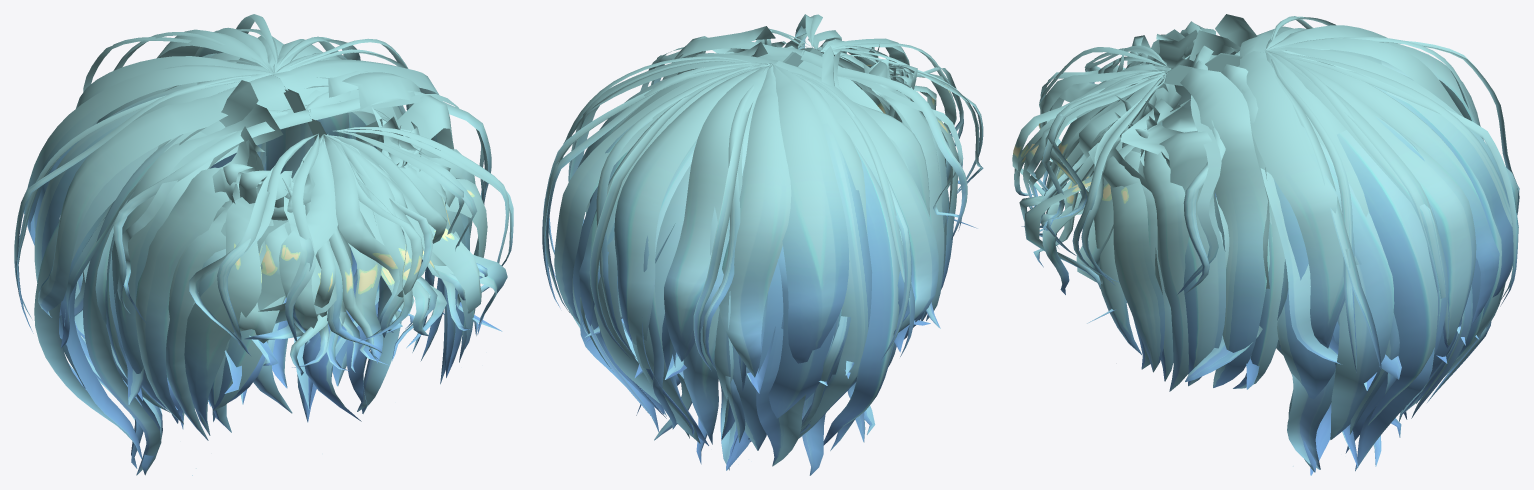
The model's file is vroid_hair_m5.glb.
The picture shows the model from 3 angles, left to right: view 1: azimuth 30°, elevation 25°; view 2: azimuth 150°, elevation 25°; view 3: azimuth 270°, elevation 25°; orthographic projection. The views are drawn at different scales.
Parts seen in each view (by area): view 1: hair; view 2: hair; view 3: hair.
Boxes of the visible parts, x1,y1,x2,y2 form: hair: (14, 14, 513, 475); hair: (542, 14, 983, 475); hair: (1012, 14, 1519, 475).
Size of the model in its own units: 0.2224 by 0.2222 by 0.2451.
Materials: 4 (4 with a texture image).
